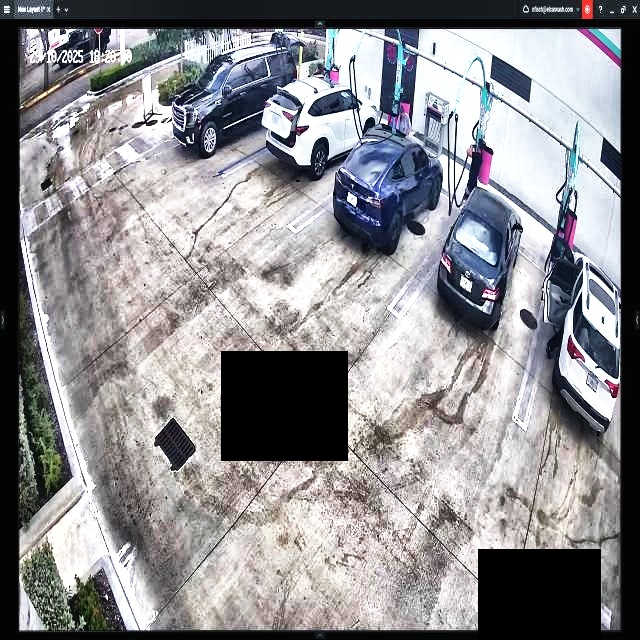Car: (335, 120, 442, 250), (438, 187, 523, 328), (262, 71, 378, 173)
